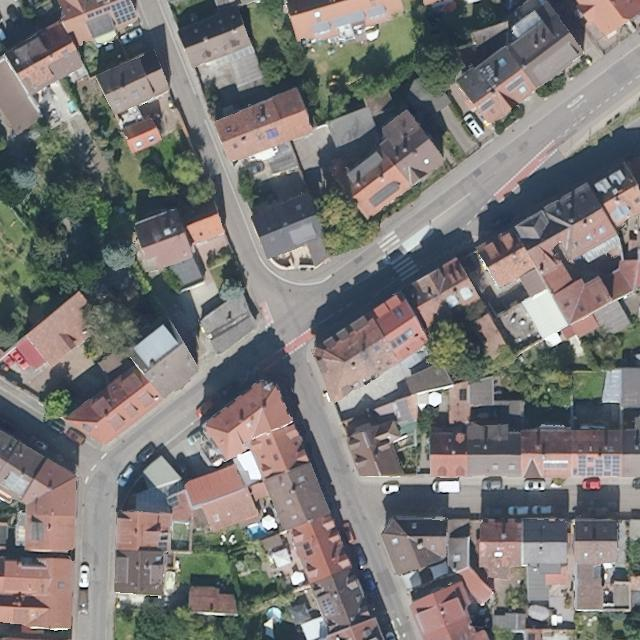PV: (84, 0, 141, 28), (572, 454, 622, 479), (385, 331, 409, 353), (320, 598, 339, 618)
